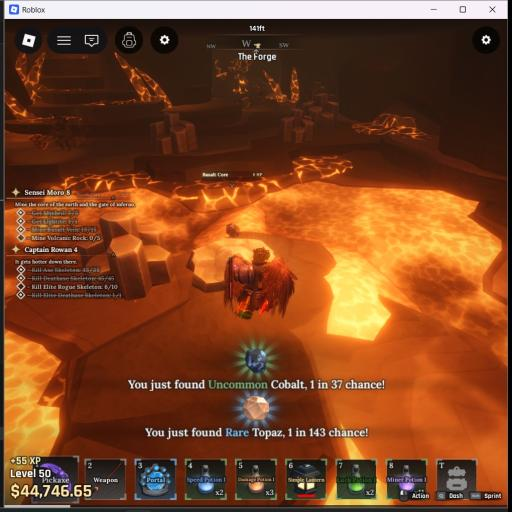player: (224, 247, 297, 319)
rock: (78, 211, 174, 299), (150, 113, 197, 154), (301, 94, 339, 127), (279, 109, 314, 142), (309, 82, 326, 100)
